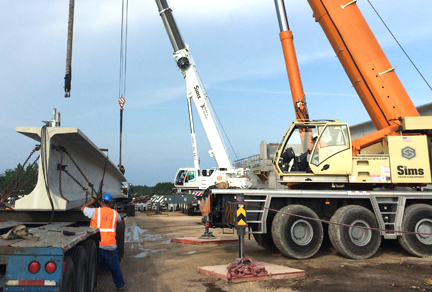crane: (214, 1, 432, 256), (149, 1, 249, 189)
